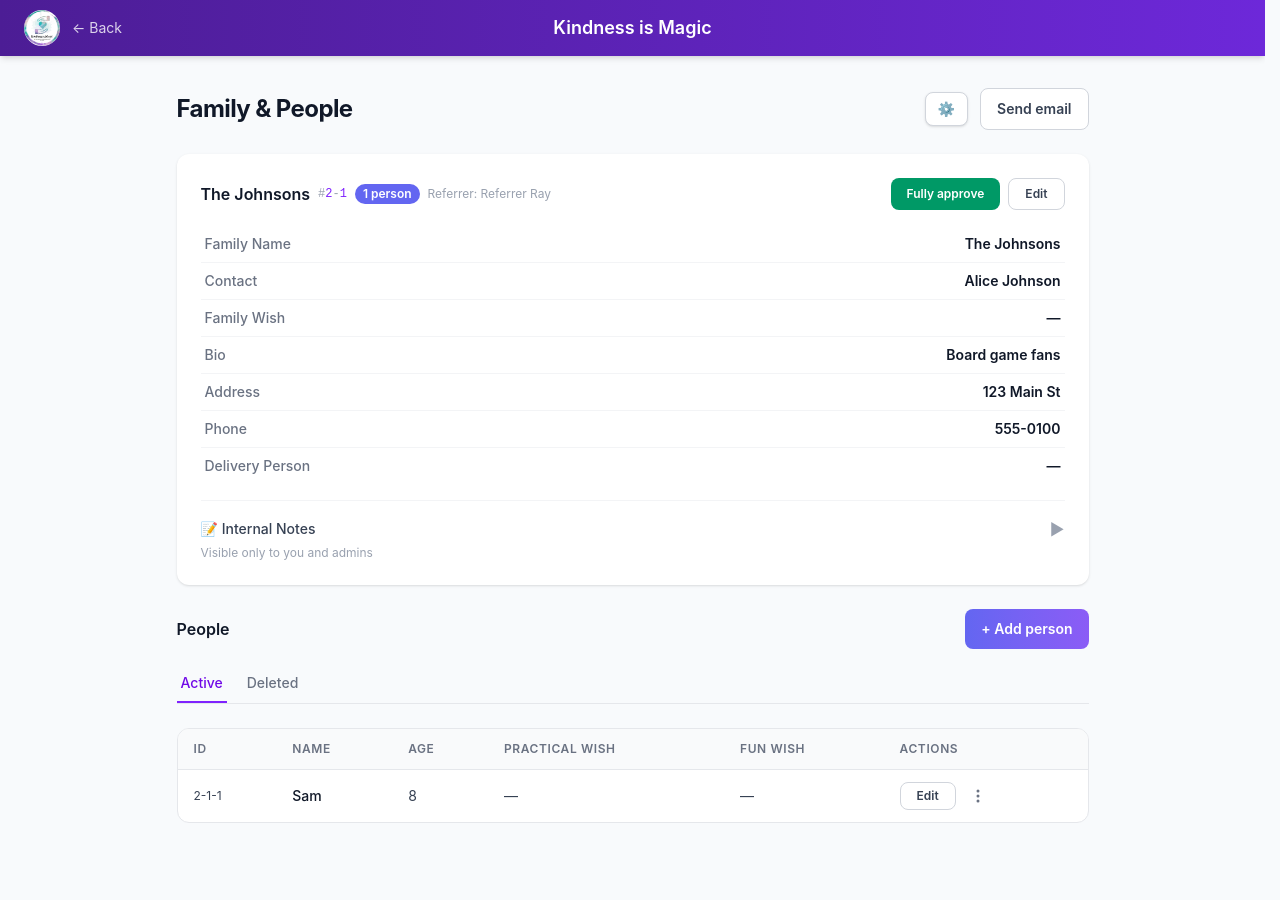
Test: AdminFamilyPeople › header Send email opens the composer prefilled with the family contact email
This screenshot has width=1280, height=900.
Click the button "Send email" at (1034, 109), box [980,88,1088,130]
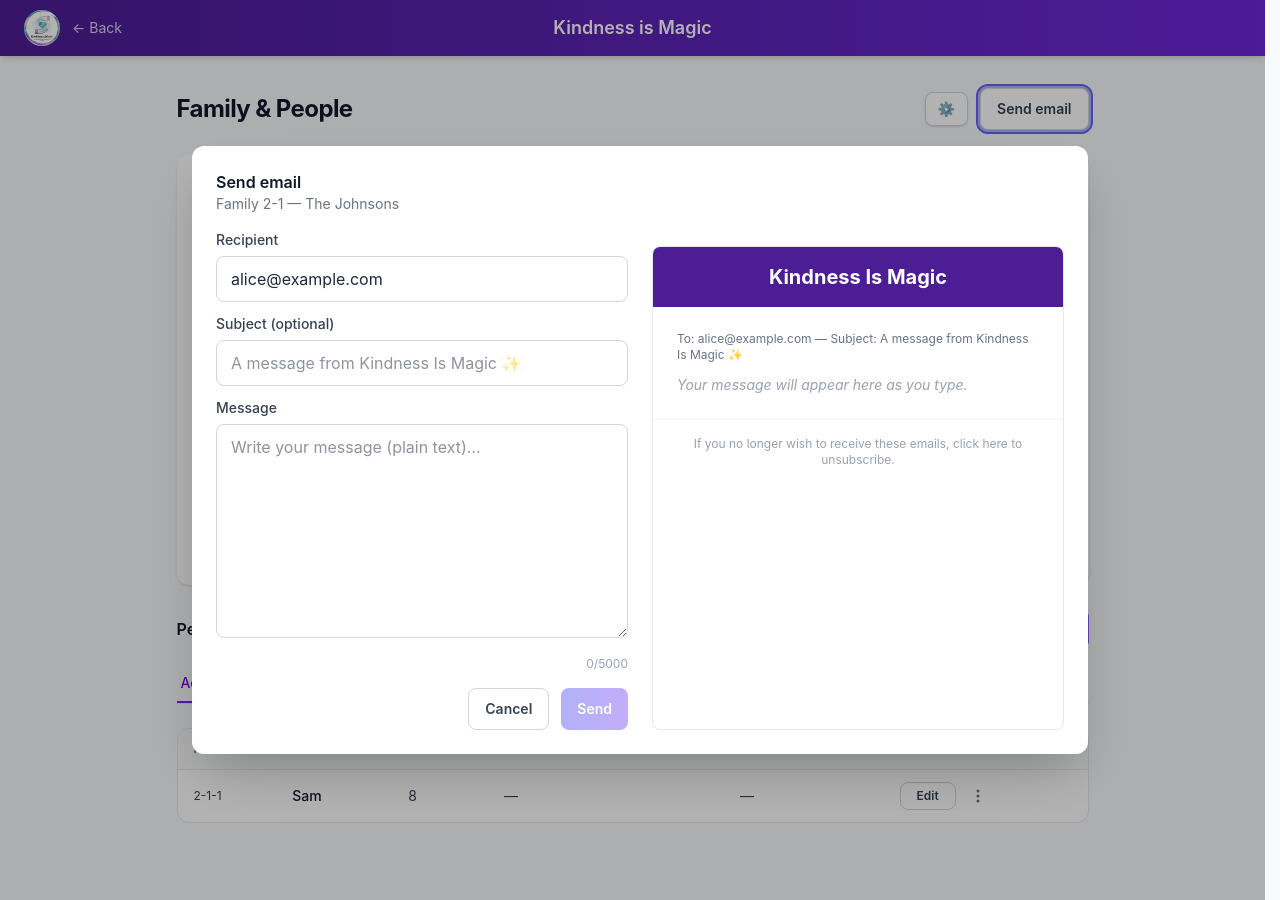
Expected: the heading "Send email" is shown, [216,172,301,192]
Expected: the text "Family 2-1 — The Johnsons" is shown, [216,195,399,212]
Expected: the field labelled "Recipient" holds "alice@example.com", [216,256,628,302]
